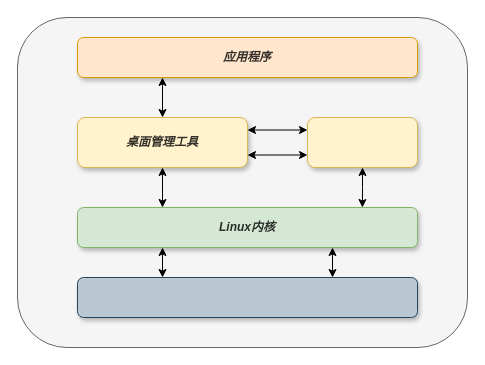
Image size: 485x365. Some labels were removed from this diagram. Here are the shapes that lost their labels. From the top down, the centre of each, then its label:
At [363,143]: "GNU".
At [248,298]: "计算机硬件".
